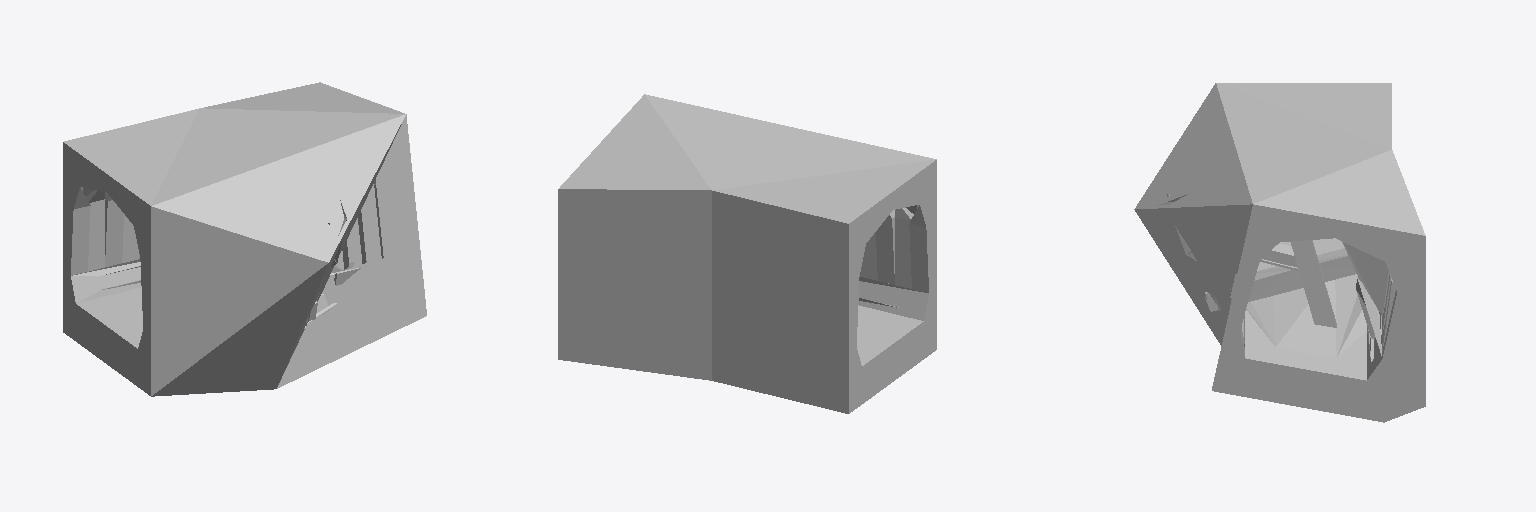
Rendered from Broken Corridor.obj.
3 renders of one model, left to right at view 1: azimuth 30°, elevation 25°; view 2: azimuth 150°, elevation 25°; view 3: azimuth 270°, elevation 25°, orthographic.
Visible parts, largest first — view 1: SketchUp.035_ID225, SketchUp.053_ID335, SketchUp.045_ID285, SketchUp.006_ID49, SketchUp.001_ID11, SketchUp.022_ID147, SketchUp.024_ID159, SketchUp.115_ID439, SketchUp.031_ID201; view 2: SketchUp.035_ID225, SketchUp.109_ID403, SketchUp.045_ID285, SketchUp.030_ID195, SketchUp.011_ID81, SketchUp.004_ID35, SketchUp.139_ID583, SketchUp.119_ID463, SketchUp.118_ID457; view 3: SketchUp.035_ID225, SketchUp.053_ID335, SketchUp.045_ID285, SketchUp.054_ID341, SketchUp.038_ID243, SketchUp.044_ID279, SketchUp.028_ID183, SketchUp.001_ID11, SketchUp.055_ID349.
Part boxes in pixels (left/top/right/bottom): SketchUp.035_ID225: left=63, top=82, right=404, bottom=396; SketchUp.053_ID335: left=152, top=114, right=426, bottom=388; SketchUp.045_ID285: left=77, top=288, right=142, bottom=348; SketchUp.006_ID49: left=71, top=187, right=96, bottom=275; SketchUp.001_ID11: left=71, top=259, right=141, bottom=303; SketchUp.022_ID147: left=105, top=192, right=123, bottom=266; SketchUp.024_ID159: left=88, top=199, right=104, bottom=271; SketchUp.115_ID439: left=98, top=267, right=140, bottom=289; SketchUp.031_ID201: left=122, top=214, right=138, bottom=262; SketchUp.035_ID225: left=559, top=94, right=936, bottom=413; SketchUp.109_ID403: left=558, top=189, right=711, bottom=380; SketchUp.045_ID285: left=857, top=305, right=923, bottom=365; SketchUp.030_ID195: left=902, top=205, right=928, bottom=292; SketchUp.011_ID81: left=858, top=281, right=928, bottom=320; SketchUp.004_ID35: left=876, top=210, right=894, bottom=284; SketchUp.139_ID583: left=895, top=217, right=911, bottom=288; SketchUp.119_ID463: left=859, top=284, right=901, bottom=307; SketchUp.118_ID457: left=861, top=232, right=877, bottom=280; SketchUp.035_ID225: left=1212, top=83, right=1425, bottom=422; SketchUp.053_ID335: left=1134, top=83, right=1252, bottom=345; SketchUp.045_ID285: left=1245, top=238, right=1366, bottom=380; SketchUp.054_ID341: left=1274, top=280, right=1336, bottom=357; SketchUp.038_ID243: left=1205, top=248, right=1356, bottom=311; SketchUp.044_ID279: left=1291, top=240, right=1336, bottom=327; SketchUp.028_ID183: left=1342, top=242, right=1389, bottom=316; SketchUp.001_ID11: left=1356, top=276, right=1381, bottom=379; SketchUp.055_ID349: left=1260, top=244, right=1297, bottom=270.
Size of the model in its own units: 8.4 by 6.94 by 7.74.